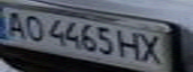4: (42, 17, 66, 47), (60, 20, 81, 51)
5: (93, 25, 118, 57)
6: (78, 23, 100, 53)
A: (0, 9, 30, 38)
H: (115, 28, 145, 61)
O: (18, 12, 48, 43)
X: (136, 32, 166, 65)
